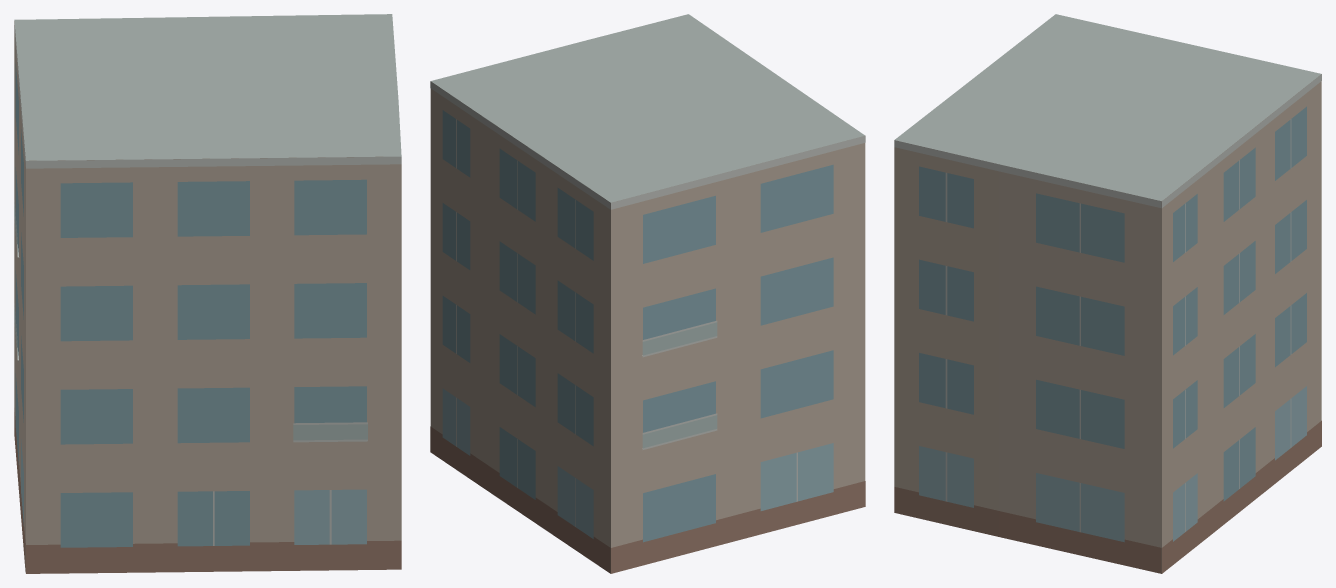
Rendered from survey-upis-32921285.glb.
3 views of the same model, side by side, from view 1: azimuth 30°, elevation 25°; view 2: azimuth 150°, elevation 25°; view 3: azimuth 270°, elevation 25° (orthographic). The views are drawn at different scales.
Visible parts, largest first — view 1: survey-upis-32921285.tmp; view 2: survey-upis-32921285.tmp; view 3: survey-upis-32921285.tmp.
Part boxes in pixels (x1,y1,x2,y2): survey-upis-32921285.tmp: [14, 14, 401, 573]; survey-upis-32921285.tmp: [430, 14, 865, 573]; survey-upis-32921285.tmp: [894, 14, 1321, 573].
Bounding box in the file's own units: 13.8 × 12.8 × 13.32.
